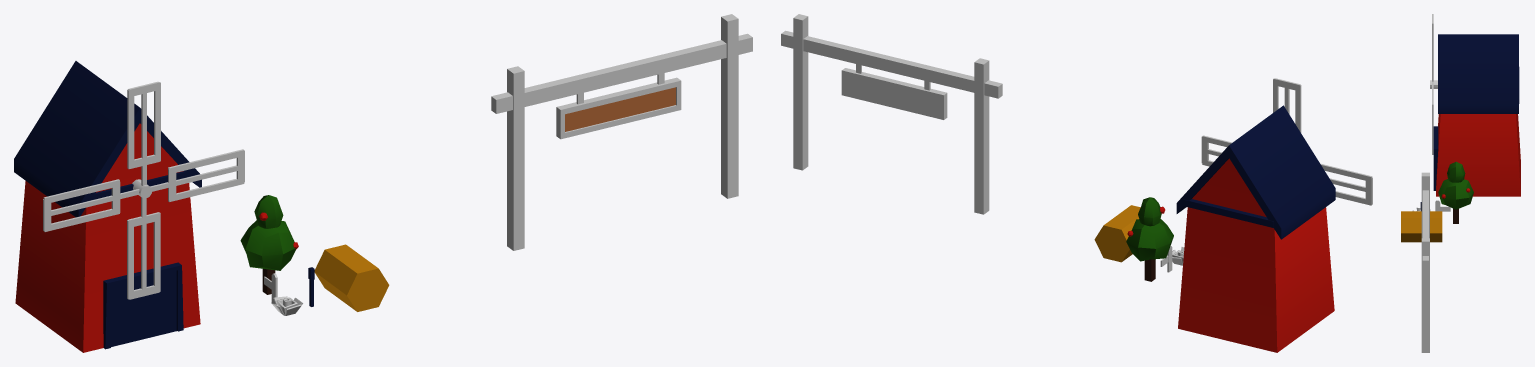
The model's file is props.fbx.
3 renders of one model, left to right at view 1: azimuth 30°, elevation 25°; view 2: azimuth 150°, elevation 25°; view 3: azimuth 270°, elevation 25°, orthographic. The views are drawn at different scales.
Parts seen in each view (by area): view 1: Mesh (4), Mesh (7), Mesh (5), Mesh (3), Mesh (6); view 2: Mesh (4), Mesh (7), Mesh (6), Mesh (5), Mesh (3); view 3: Mesh (4), Mesh (7), Mesh (6), Mesh (3), Mesh (5), Mesh (2).
Part boxes in pixels (left/top/right/bottom): Mesh (4): left=14, top=61, right=201, bottom=352; Mesh (7): left=491, top=14, right=752, bottom=250; Mesh (5): left=43, top=81, right=244, bottom=299; Mesh (3): left=314, top=244, right=389, bottom=311; Mesh (6): left=240, top=195, right=298, bottom=294; Mesh (4): left=1176, top=105, right=1335, bottom=352; Mesh (7): left=781, top=14, right=1002, bottom=214; Mesh (6): left=1126, top=197, right=1173, bottom=281; Mesh (5): left=1201, top=78, right=1372, bottom=205; Mesh (3): left=1094, top=205, right=1140, bottom=262; Mesh (4): left=1433, top=34, right=1520, bottom=196; Mesh (7): left=1421, top=172, right=1429, bottom=352; Mesh (6): left=1438, top=161, right=1473, bottom=223; Mesh (3): left=1401, top=211, right=1442, bottom=242; Mesh (5): left=1430, top=14, right=1437, bottom=154; Mesh (2): left=1435, top=200, right=1450, bottom=211.
Size of the model in its own units: 2213 by 771 by 522.
